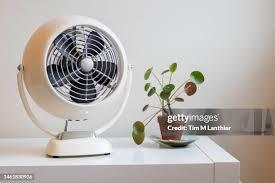Indoor Plant: (132, 60, 205, 147)
fan: (18, 15, 130, 158)
